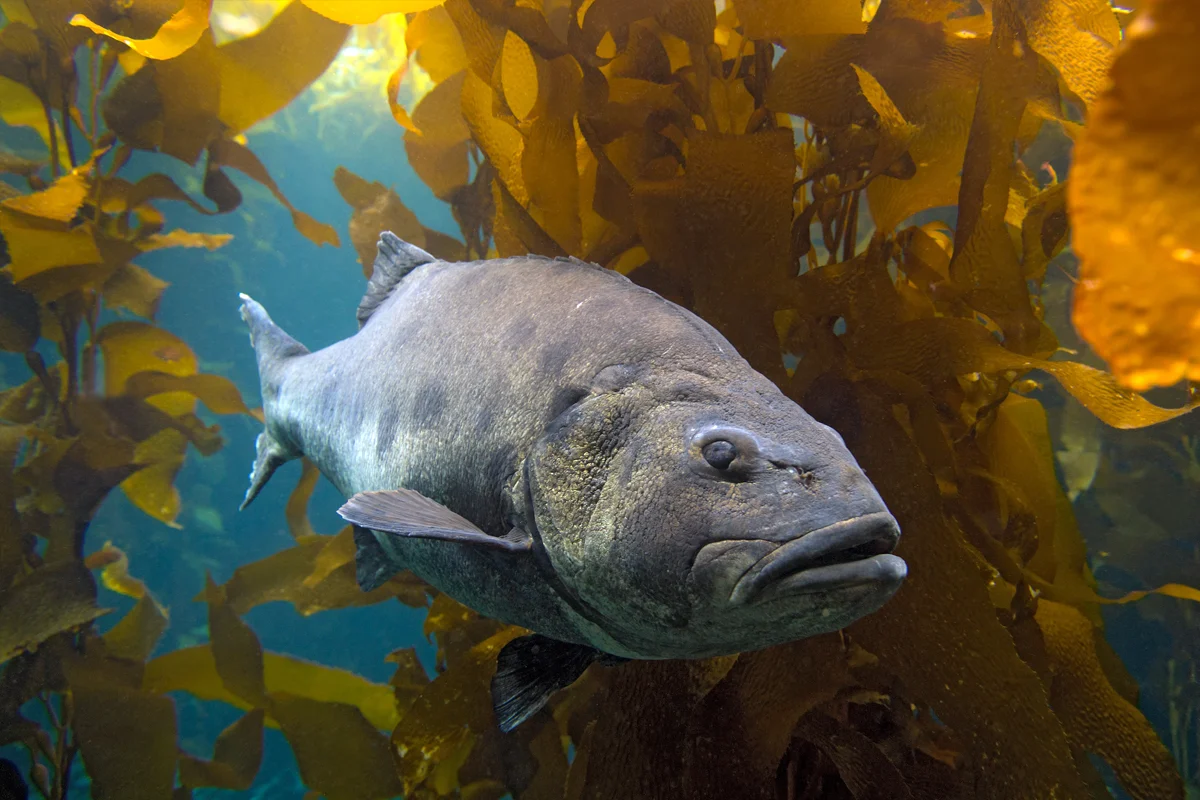Giant Bass: (126, 92, 958, 717)
